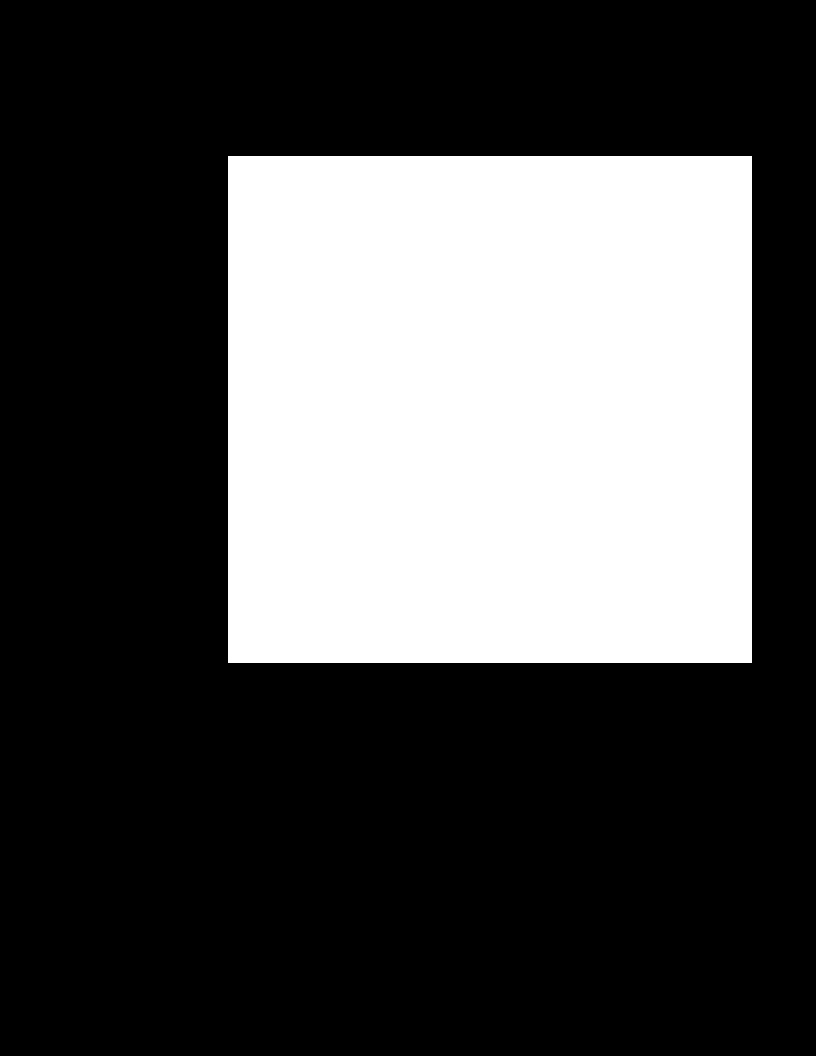table: (228, 156, 751, 662)
